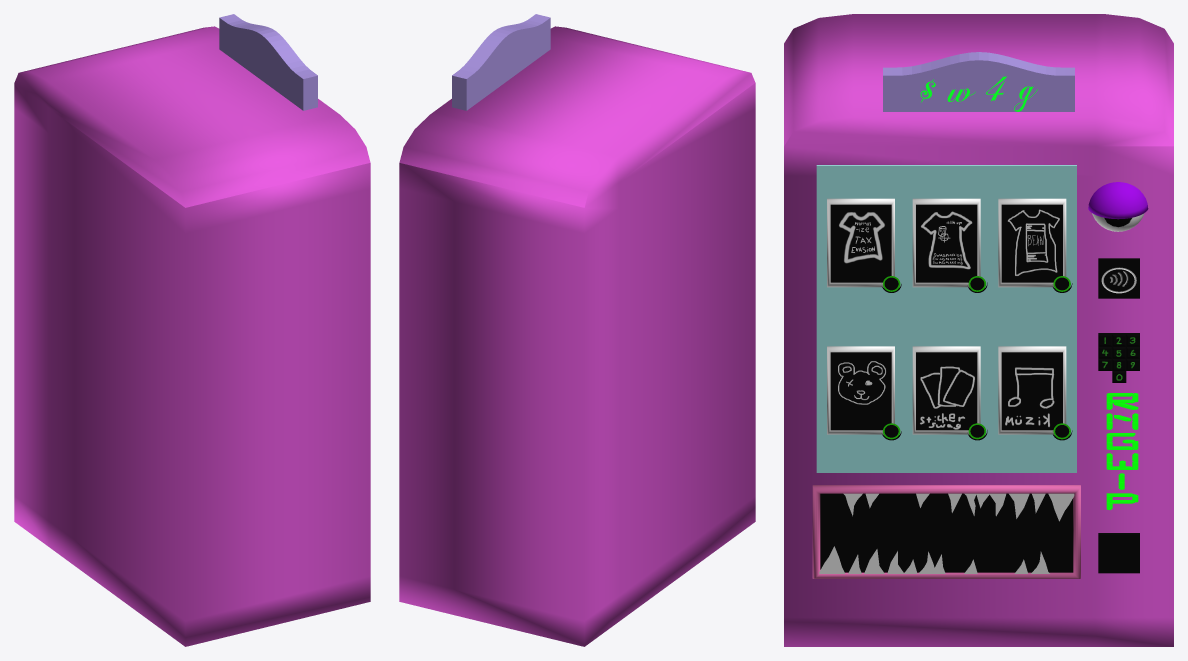
The model's file is VendingMachineRoot.glb.
3 views of the same model, side by side, from view 1: azimuth 30°, elevation 25°; view 2: azimuth 150°, elevation 25°; view 3: azimuth 270°, elevation 25° (orthographic). The views are drawn at different scales.
Visible parts, largest first — view 1: vending_machine_box.002, swag_sign_block.002; view 2: vending_machine_box.002, swag_sign_block.002; view 3: vending_machine_box.002, window_pane.002, mouthgap.002, swag_sign_block.002, item_display_swagmax.004, item_display_bean.004, item_display_stickers.002, item_display_muzik.004, item_display_tax.002, item_display_plushy.004, gums.002, rngwip_text.004 (+7 smaller).
Part boxes in pixels (left/top/right/bottom): vending_machine_box.002: left=14, top=26, right=370, bottom=646; swag_sign_block.002: left=219, top=14, right=317, bottom=110; vending_machine_box.002: left=399, top=26, right=755, bottom=646; swag_sign_block.002: left=452, top=14, right=550, bottom=110; vending_machine_box.002: left=784, top=14, right=1173, bottom=646; window_pane.002: left=816, top=165, right=1076, bottom=472; mouthgap.002: left=820, top=493, right=1073, bottom=572; swag_sign_block.002: left=883, top=52, right=1074, bottom=111; item_display_swagmax.004: left=912, top=198, right=980, bottom=287; item_display_bean.004: left=998, top=198, right=1066, bottom=287; item_display_stickers.002: left=912, top=346, right=980, bottom=434; item_display_muzik.004: left=998, top=346, right=1066, bottom=434; item_display_tax.002: left=827, top=198, right=894, bottom=287; item_display_plushy.004: left=827, top=346, right=894, bottom=434; gums.002: left=812, top=485, right=1080, bottom=578; rngwip_text.004: left=1106, top=393, right=1138, bottom=509.
Size of the model in its own units: 4.11 by 9.88 by 6.
Materials: 20 (9 with a texture image).
